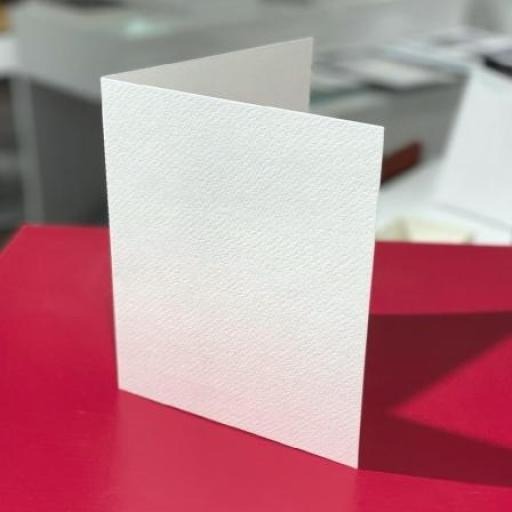paper: (70, 31, 408, 507)
